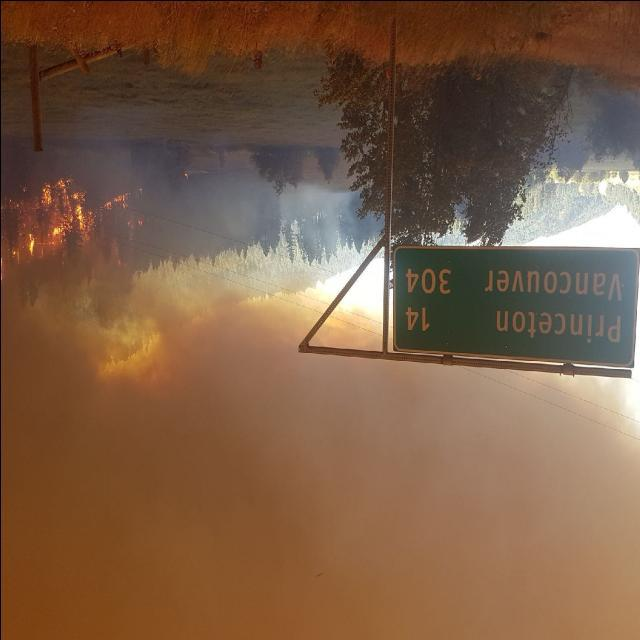Fire: (1, 176, 92, 266)
